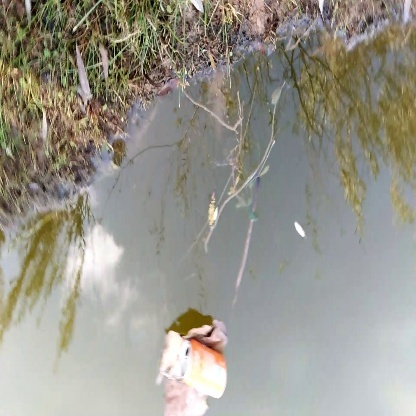bottle: (169, 330, 238, 404)
